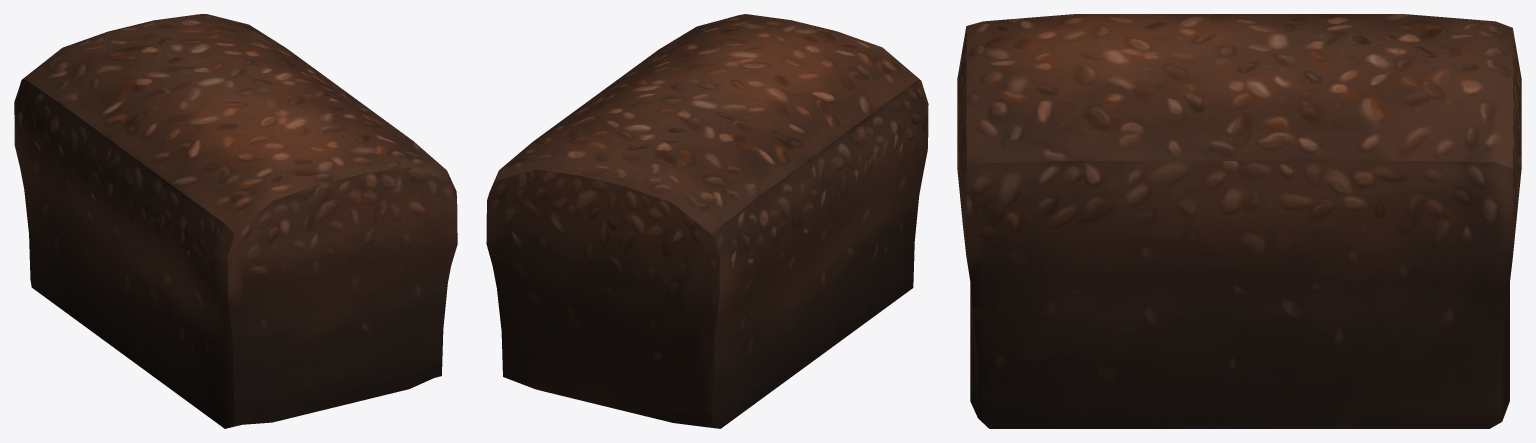
The model's file is zytni2.FBX.
3 views of the same model, side by side, from view 1: azimuth 30°, elevation 25°; view 2: azimuth 150°, elevation 25°; view 3: azimuth 270°, elevation 25° (orthographic). The views are drawn at different scales.
Parts seen in each view (by area): view 1: Box001; view 2: Box001; view 3: Box001.
Boxes of the visible parts, <box> form: Box001: <box>14,14,457,428</box>; Box001: <box>486,14,928,428</box>; Box001: <box>957,14,1521,428</box>.
Bounding box in the file's own units: 33.14 × 31.59 × 51.71.
